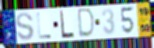3: (101, 8, 117, 37)
5: (119, 7, 136, 36)
D: (78, 8, 97, 39)
L: (59, 10, 75, 39), (36, 12, 52, 40)
S: (15, 12, 35, 42)
